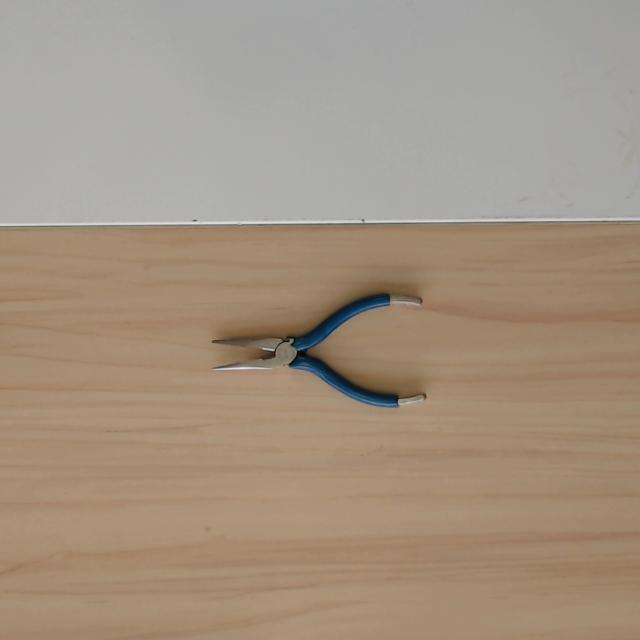Tang-Jepit-Biru: (209, 291, 425, 413)
